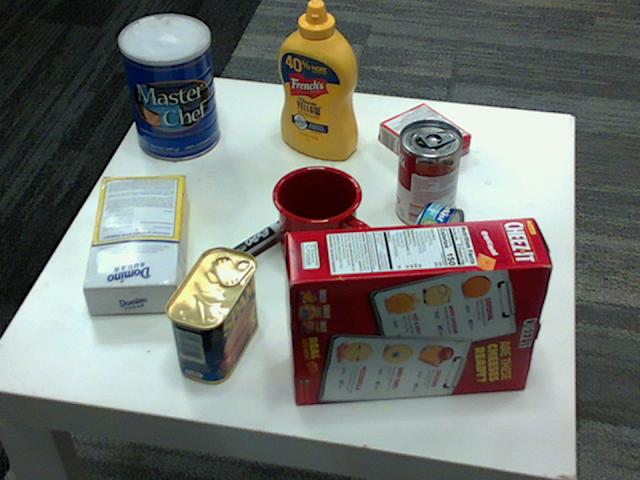cracker_box: (284, 215, 550, 402)
gelatin_box: (380, 103, 471, 171)
large_marker: (206, 213, 298, 281)
master_chef_can: (117, 15, 217, 160)
mug: (271, 163, 373, 271)
mustard_bottle: (277, 0, 357, 160)
potted_meat_can: (166, 246, 257, 384)
sugar_box: (83, 172, 187, 311)
tomato_soup_can: (395, 120, 461, 229)
tuna_fish_can: (403, 201, 463, 288)
